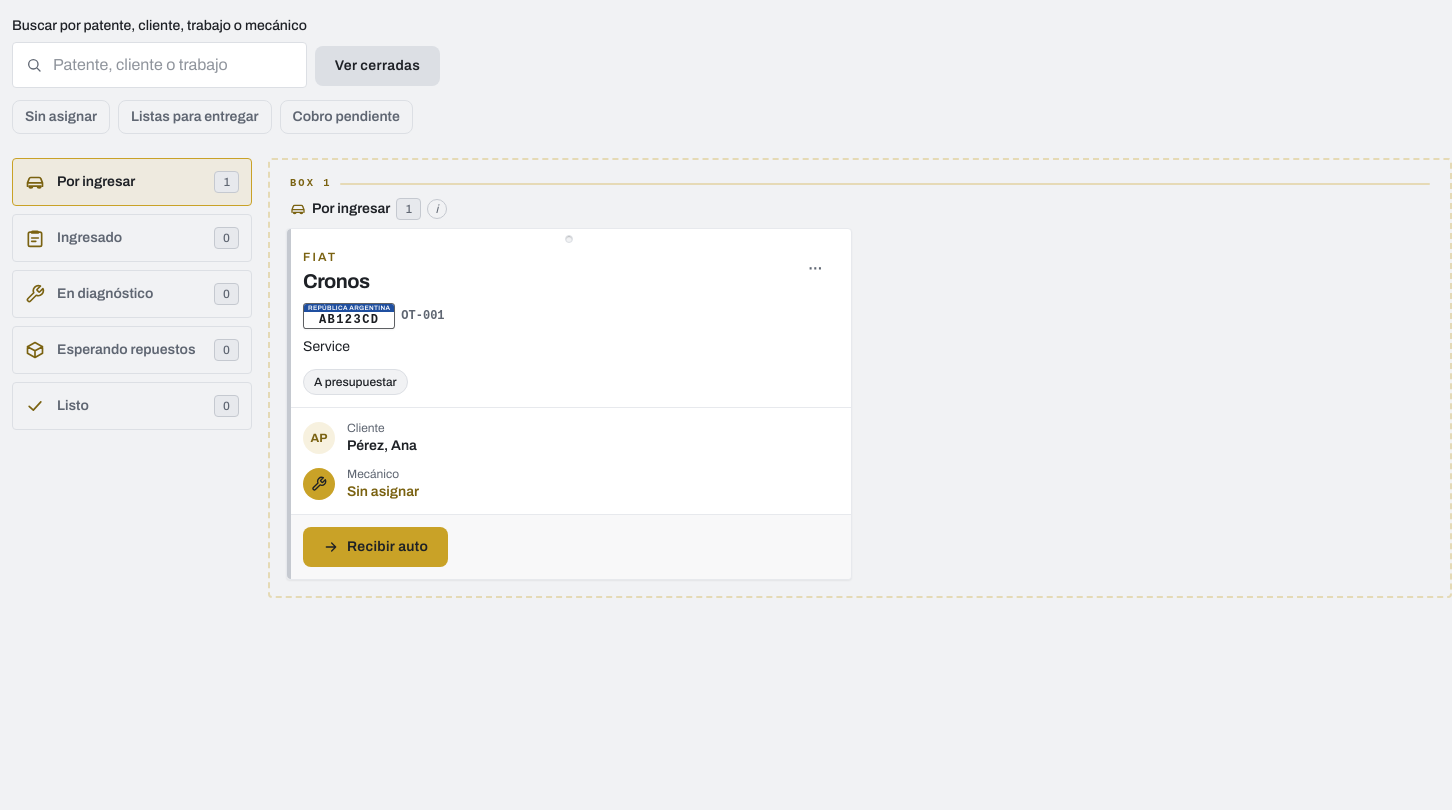
Scenario: TableroOrdenes › Ver cerradas alterna a la lista de Entregado y Cancelado
Check: the text "Entregado ayer" is not shown
Click the button "Ver cerradas": (377, 66) left=315, top=46, right=440, bottom=86
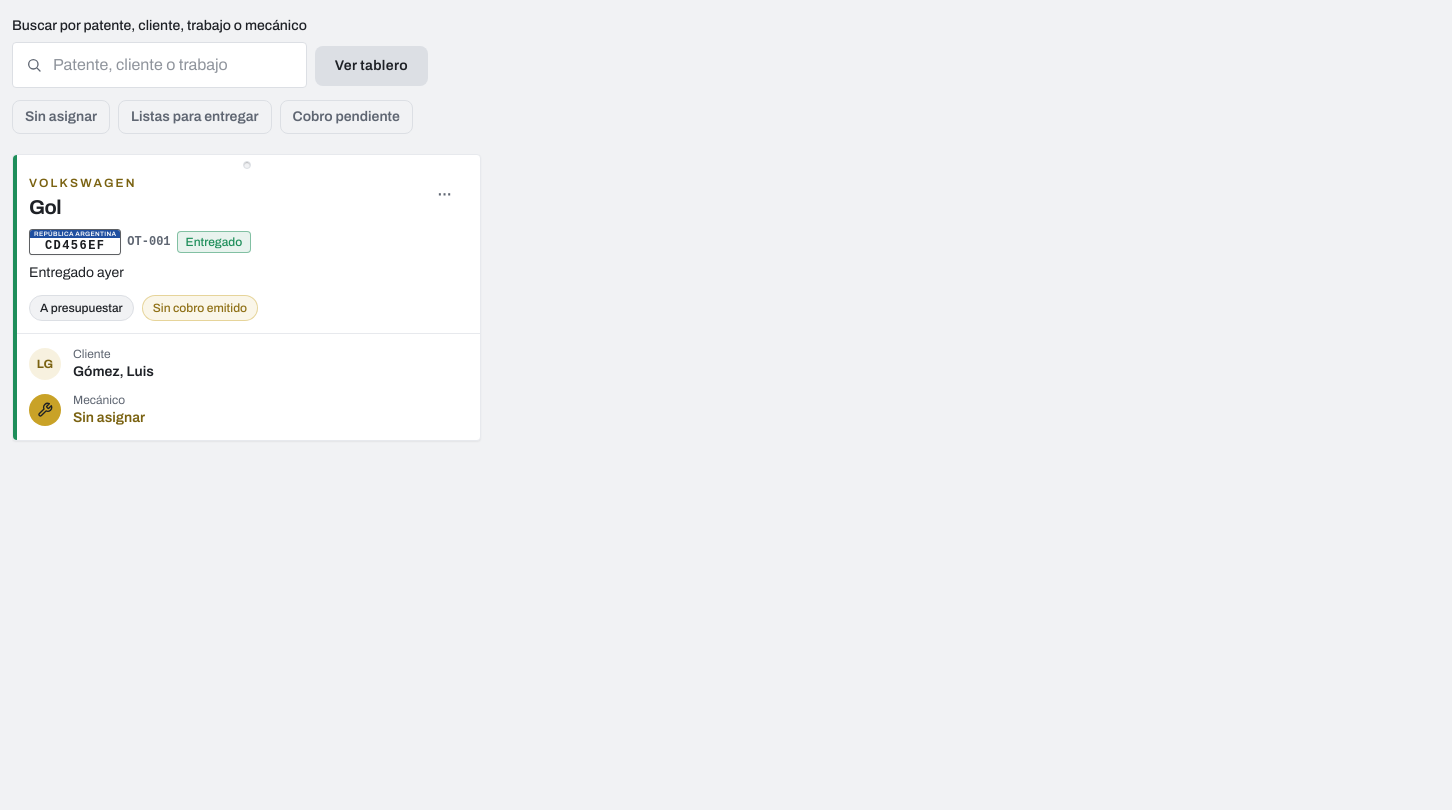
Check: the text "Entregado ayer" is shown, box left=29, top=265, right=124, bottom=280
Check: the text "Entregado" is shown, box left=177, top=231, right=251, bottom=253
Check: the button "Por ingresar" is gone
Click the button "Ver tablero": (371, 66) left=315, top=46, right=428, bottom=86
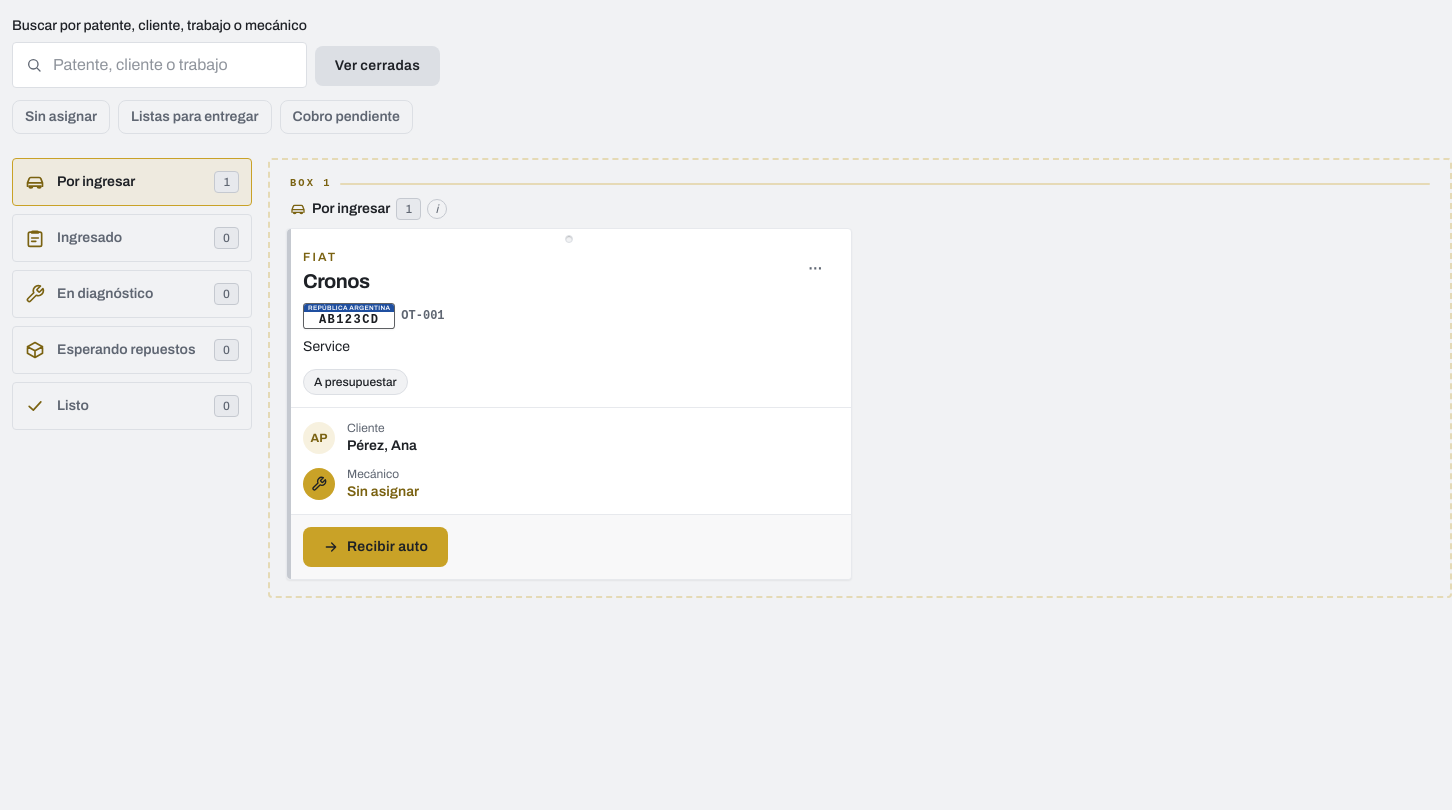
Check: the element "Por ingresar" is shown, box left=268, top=158, right=1451, bottom=598
